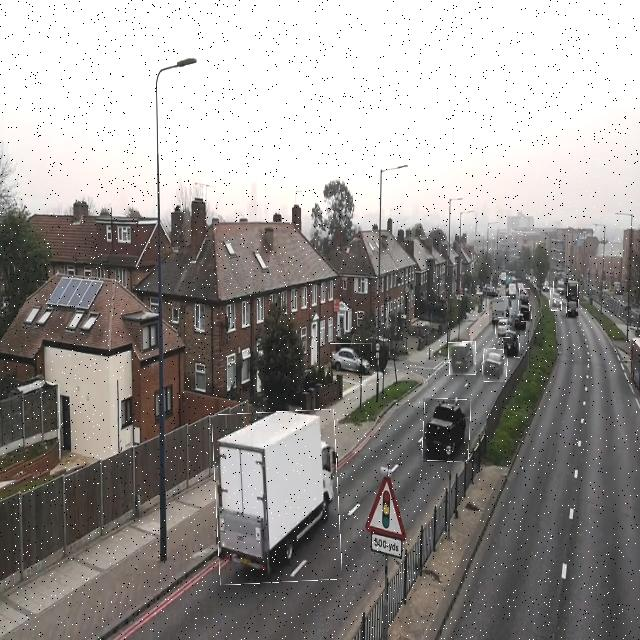Car: (330, 343, 372, 376), (449, 342, 476, 375), (483, 349, 507, 382), (502, 329, 520, 358), (495, 318, 512, 338), (510, 315, 526, 335), (550, 288, 562, 311), (519, 288, 530, 311), (519, 306, 532, 322)
Truck: (214, 411, 340, 583), (423, 398, 470, 462), (489, 295, 509, 325), (566, 279, 579, 317), (554, 277, 568, 299)
